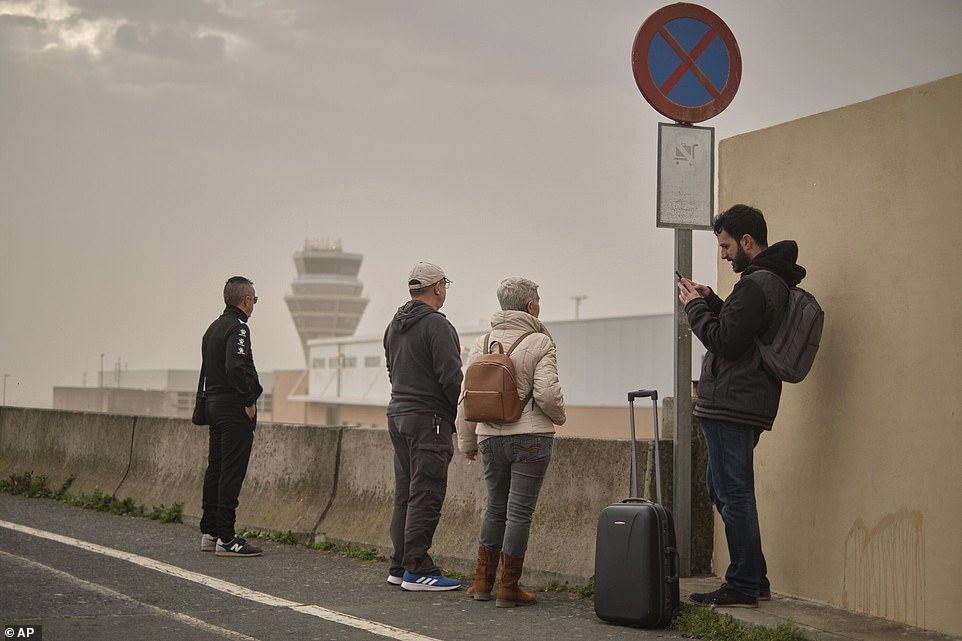person: (690, 204, 791, 605), (463, 277, 562, 606), (386, 261, 459, 593), (198, 275, 266, 557)
